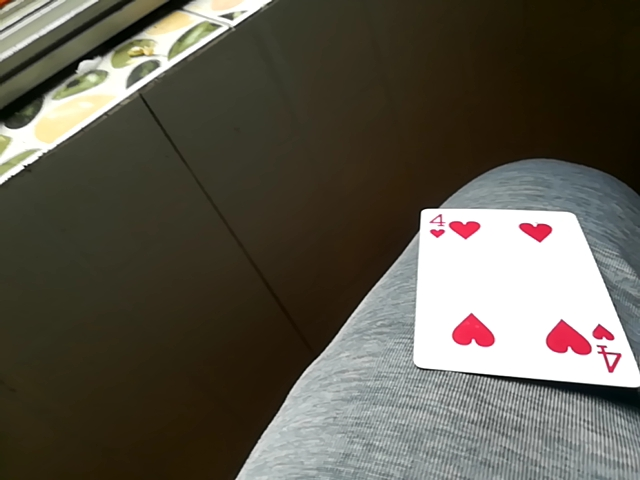hx 4: (410, 208, 636, 388)
